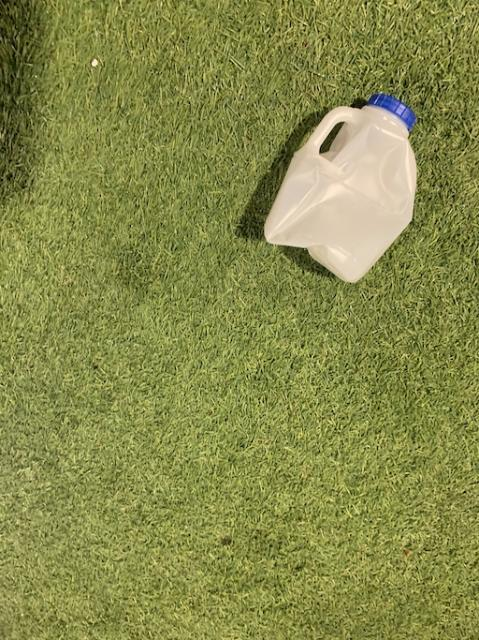plastic: (263, 93, 415, 280)
